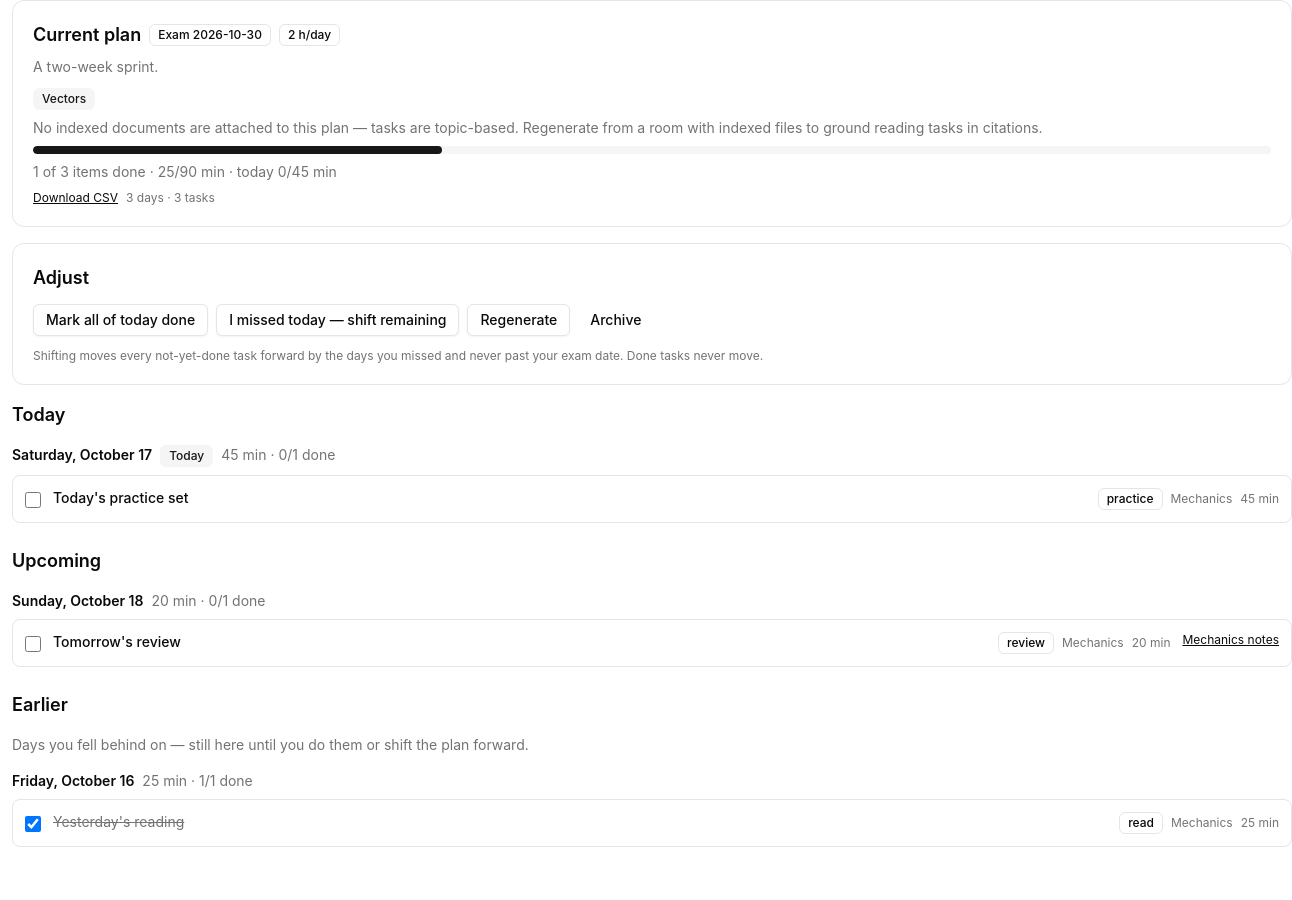
Scenario: PlanView › reverts the toggle and alerts when the server refuses
Click the checkbox labelled "Today's practice set" at point(33, 500), box [25,492,41,508]
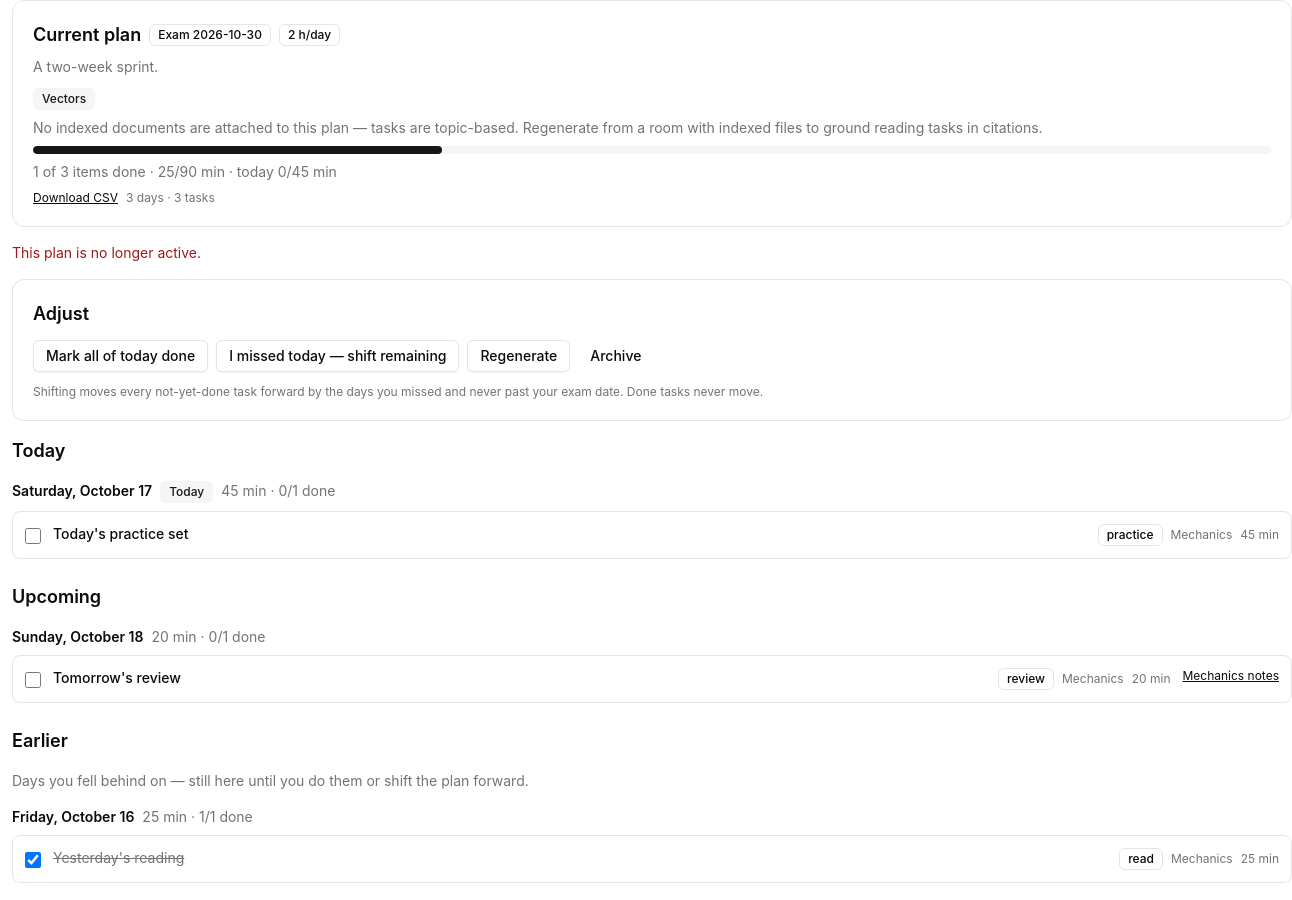
Expected: the checkbox labelled "Today's practice set" is not checked, [25,528,41,544]
Expected: the message reads "This plan is no longer active.", [12,244,201,261]
